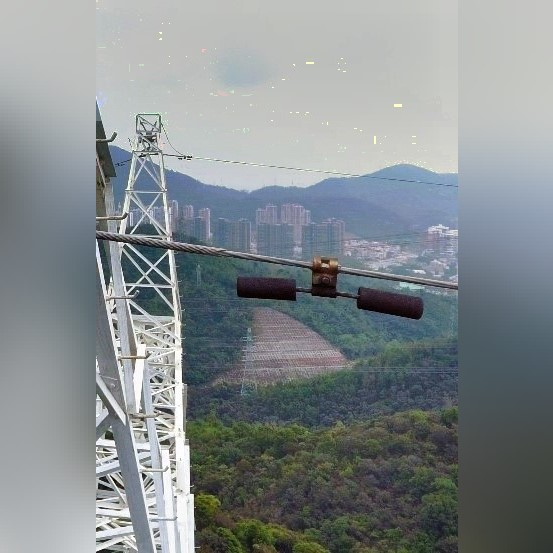Shockproof hammer: (230, 248, 431, 324)
